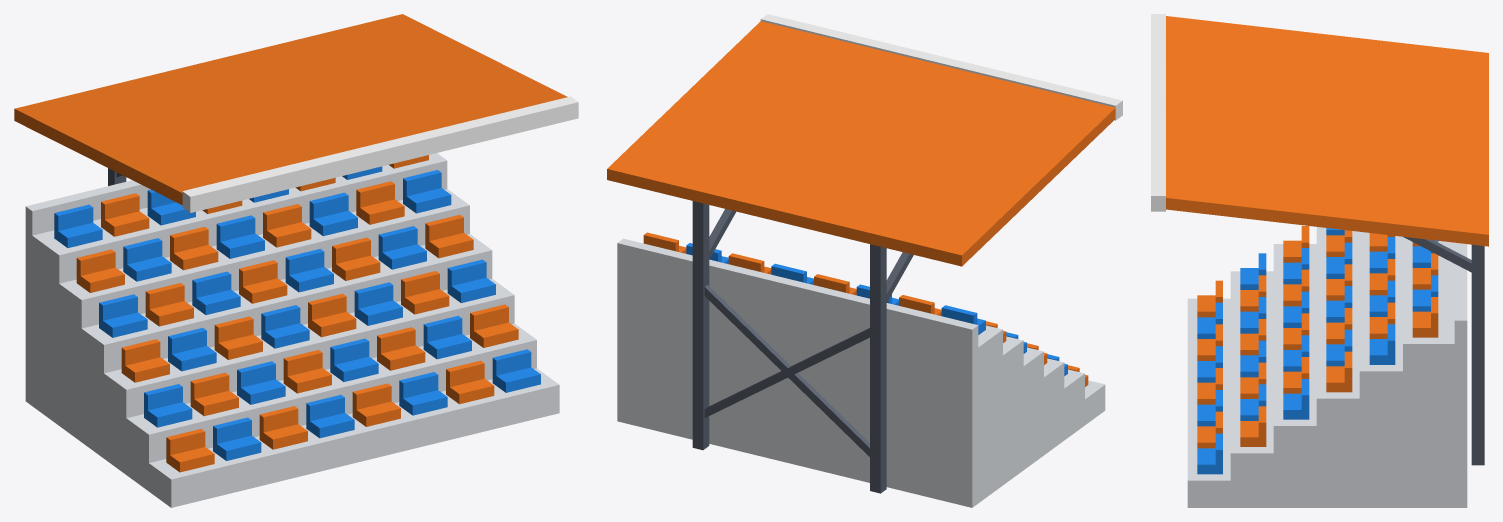
The model's file is tribune_module.fbx.
3 views of the same model, side by side, from view 1: azimuth 30°, elevation 25°; view 2: azimuth 150°, elevation 25°; view 3: azimuth 270°, elevation 25° (orthographic). The views are drawn at different scales.
Parts seen in each view (by area): view 1: tribune_module_Beton, tribune_module_Toit, tribune_module_SiegesBleu, tribune_module_SiegesOrange, tribune_module_Bordure; view 2: tribune_module_Toit, tribune_module_Beton, tribune_module_Structure, tribune_module_Bordure, tribune_module_SiegesOrange, tribune_module_SiegesBleu; view 3: tribune_module_Toit, tribune_module_Beton, tribune_module_SiegesOrange, tribune_module_SiegesBleu, tribune_module_Structure, tribune_module_Bordure.
Boxes of the visible parts, box(x1,y1,x2,y2) form: tribune_module_Beton: box(25, 153, 559, 507); tribune_module_Toit: box(14, 14, 567, 205); tribune_module_SiegesBleu: box(54, 166, 540, 460); tribune_module_SiegesOrange: box(76, 155, 518, 472); tribune_module_Bordure: box(182, 96, 578, 212); tribune_module_Toit: box(607, 21, 1115, 266); tribune_module_Beton: box(617, 238, 1105, 507); tribune_module_Structure: box(692, 201, 913, 493); tribune_module_Bordure: box(760, 14, 1122, 120); tribune_module_SiegesOrange: box(643, 232, 1088, 386); tribune_module_SiegesBleu: box(686, 243, 1067, 375); tribune_module_Toit: box(1166, 16, 1488, 246); tribune_module_Beton: box(1187, 227, 1467, 507); tribune_module_SiegesOrange: box(1197, 226, 1438, 448); tribune_module_SiegesBleu: box(1197, 228, 1438, 474); tribune_module_Structure: box(1403, 236, 1484, 465); tribune_module_Bordure: box(1151, 14, 1165, 211).
Size of the model in its own units: 20 by 16 by 15.7.
